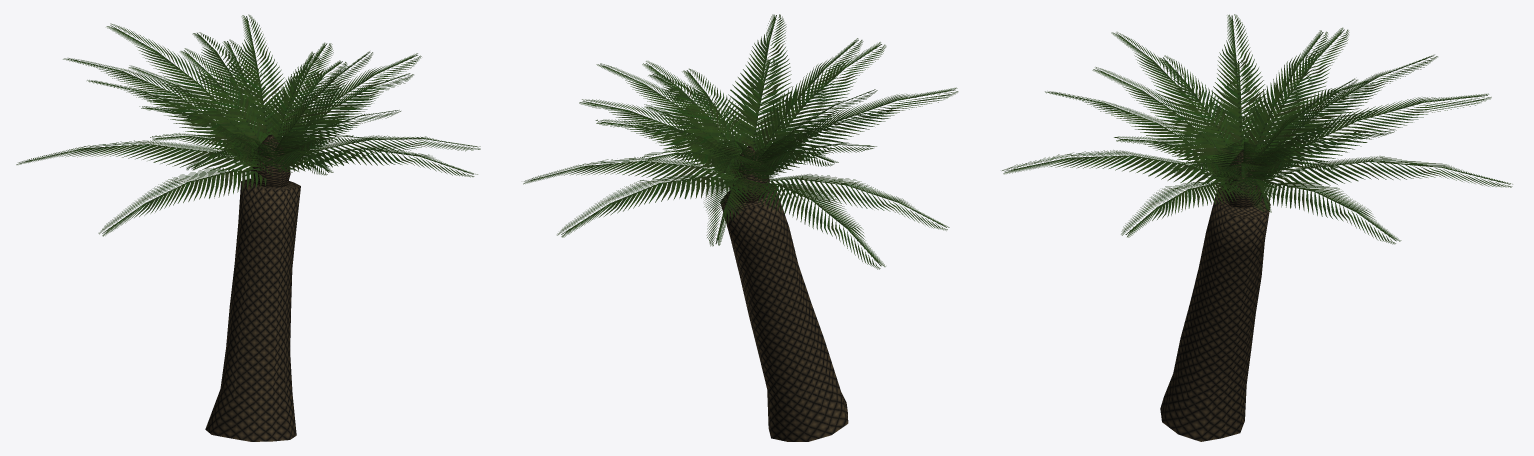
File: ENV_PC_Cycad_C.fbx
3 renders of one model, left to right at view 1: azimuth 30°, elevation 25°; view 2: azimuth 150°, elevation 25°; view 3: azimuth 270°, elevation 25°, orthographic. The views are drawn at different scales.
Parts seen in each view (by area): view 1: ENV_PC_Cycad_C_LOD0; view 2: ENV_PC_Cycad_C_LOD0; view 3: ENV_PC_Cycad_C_LOD0.
Part boxes in pixels (x1,y1,x2,y2): ENV_PC_Cycad_C_LOD0: [16, 14, 480, 441]; ENV_PC_Cycad_C_LOD0: [523, 14, 958, 441]; ENV_PC_Cycad_C_LOD0: [1002, 14, 1512, 441].
Size of what is drawn, in the model's own units: 3.83 by 3.49 by 4.62.
